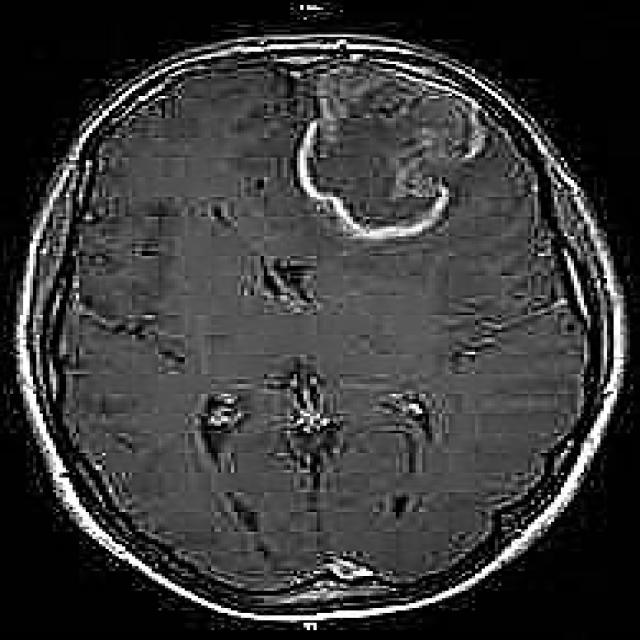Tumor-Cell: (295, 46, 494, 228)
